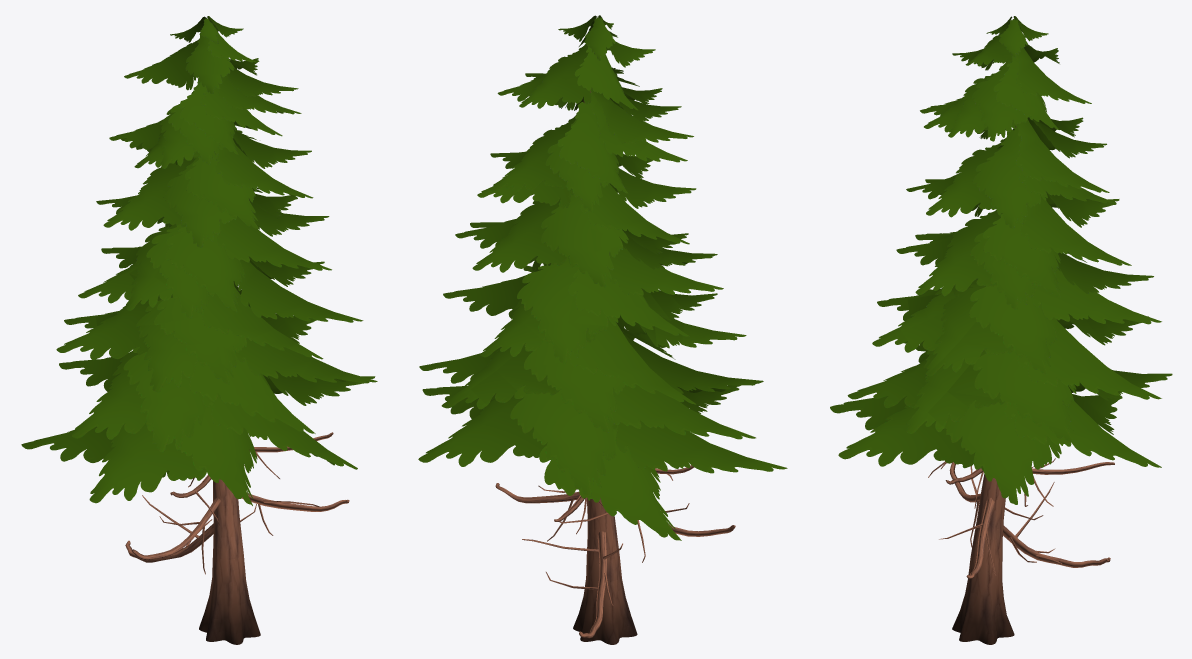
File: pine-4.glb
The picture shows the model from 3 angles, left to right: view 1: azimuth 30°, elevation 25°; view 2: azimuth 150°, elevation 25°; view 3: azimuth 270°, elevation 25°; orthographic projection. The views are drawn at different scales.
Visible parts, largest first — view 1: Pine_4; view 2: Pine_4; view 3: Pine_4.
Boxes of the visible parts, x1,y1,x2,y2 form: Pine_4: (21,16,377,644); Pine_4: (418,15,787,644); Pine_4: (830,16,1172,644).
Size of the model in its own units: 5.8 by 10.24 by 5.37.
Materials: 2 (2 with a texture image).
